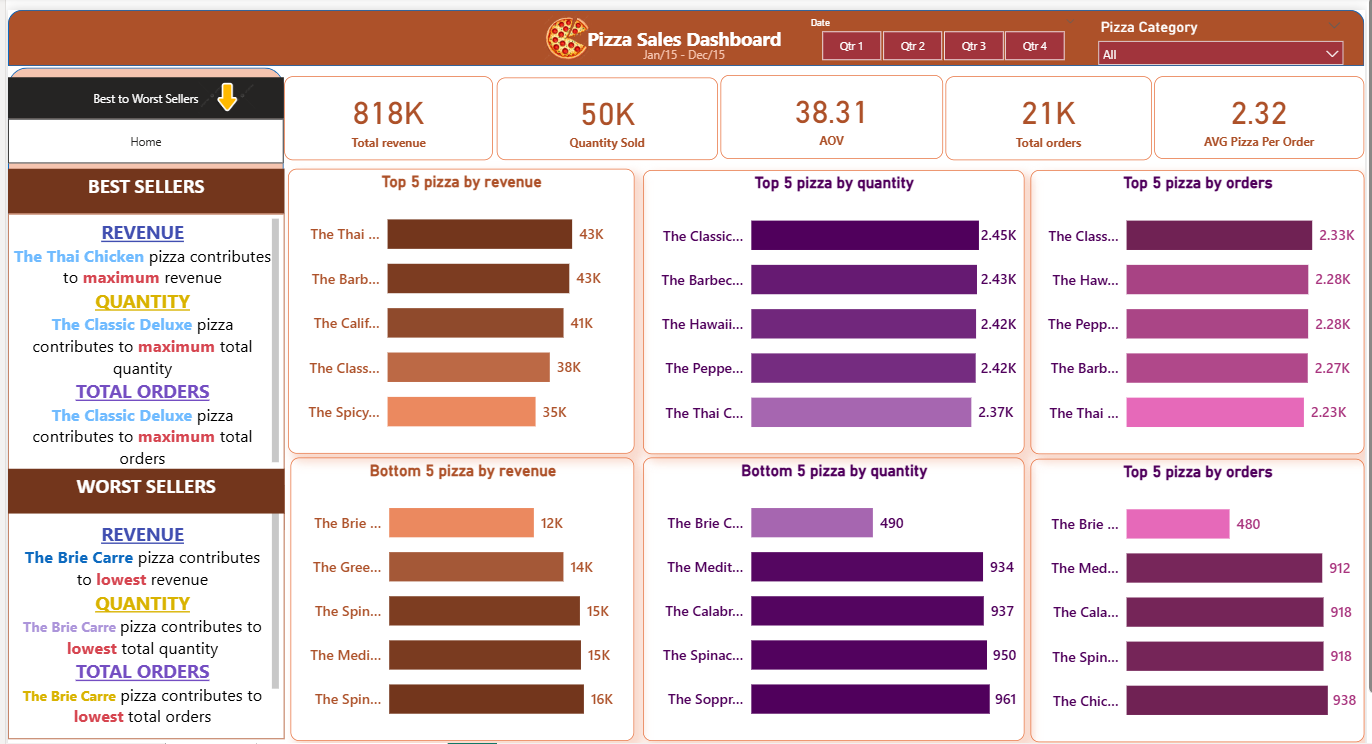

The dashboard page shown, as its layout file describes it:
{"tool":"powerbi","page":{"name":"Best to Worst Sellers","canvas":[1550,900],"ordinal":1},"visuals":[{"type":"card","fields":{"Values":["pizza_sales.Total revenue"]},"box":[315.7,75.7,238.6,95.7],"z":1000},{"type":"shape","box":[0,0,1550,64.3],"z":2000},{"type":"textbox","box":[654.8,12.3,237,39.7],"z":3000},{"type":"image","box":[605.5,0,67.1,65.8],"z":4000},{"type":"textbox","box":[700,37,145.2,27.4],"z":5000},{"type":"card","fields":{"Values":["pizza_sales.Quantity Sold"]},"box":[558.6,77.1,252.9,94.3],"z":6000},{"type":"card","fields":{"Values":["pizza_sales.AOV"]},"box":[814.3,74.3,254.3,95.7],"z":7000},{"type":"card","fields":{"Values":["pizza_sales.Total orders"]},"box":[1071.4,75.7,235.7,95.7],"z":8000},{"type":"card","fields":{"Values":["pizza_sales.AVG Pizza Per Order"]},"box":[1310,75.7,240,94.3],"z":10000},{"type":"shape","box":[0,65.8,315.1,734.2],"z":14000},{"type":"textbox","box":[0,181.4,315.7,51.4],"z":15000},{"type":"textbox","box":[0,232.9,315.7,310],"z":16000},{"type":"textbox","box":[0,542.9,315.7,51.4],"z":17000},{"type":"textbox","box":[0,542.9,315.7,290],"z":18000},{"type":"slicer","fields":{"Values":["pizza_sales.pizza_category"]},"box":[1235.7,4.3,300,58.6],"z":19000},{"type":"slicer","fields":{"Values":["pizza_sales.order_date.Variation.Date Hierarchy.Quarter"]},"box":[904.3,2.9,327.1,61.4],"z":20000},{"type":"barChart","title":"Top 5 pizza by revenue","fields":{"Category":["pizza_sales.pizza_name"],"Y":["Sum(pizza_sales.total_price)"]},"box":[320,181.4,395.7,325.7],"z":20001},{"type":"barChart","title":"Bottom 5 pizza by revenue","fields":{"Category":["pizza_sales.pizza_name"],"Y":["Sum(pizza_sales.total_price)"]},"box":[322.9,511.4,392.9,324],"z":20002},{"type":"barChart","title":"Top 5 pizza by quantity","fields":{"Category":["pizza_sales.pizza_name"],"Y":["Sum(pizza_sales.quantity)"]},"box":[725.7,182.9,435.7,325],"z":20003},{"type":"barChart","title":"Bottom 5 pizza by quantity","fields":{"Category":["pizza_sales.pizza_name"],"Y":["Sum(pizza_sales.quantity)"]},"box":[725.7,511.4,435.7,324],"z":20004},{"type":"barChart","title":"Top 5 pizza by orders","fields":{"Category":["pizza_sales.pizza_name"],"Y":["pizza_sales.Total orders"]},"box":[1168.6,182.9,381.4,325],"z":20005},{"type":"barChart","title":"Top 5 pizza by orders","fields":{"Category":["pizza_sales.pizza_name"],"Y":["pizza_sales.Total orders"]},"box":[1168.6,512.9,381.4,324],"z":20006},{"type":"textbox","box":[0,524.3,315.7,51.4],"z":20007},{"type":"pageNavigator","box":[0,77.1,315.7,47.1],"z":20008},{"type":"pageNavigator","box":[0,124.3,315.7,51.4],"z":20009},{"type":"image","box":[211.4,74.3,78.6,50],"z":20010}]}

Visuals, with their boxes on the page's 1550x900 design canvas (x1, y1, x2, y2). These are canvas units, not pixel positions in the 1372x744 screenshot, which may show the page scaled, cropped or inside an application window:
card - pizza_sales.Total revenue: BBox(316, 76, 554, 171)
shape: BBox(0, 0, 1550, 64)
textbox: BBox(655, 12, 892, 52)
image: BBox(606, 0, 673, 66)
textbox: BBox(700, 37, 845, 64)
card - pizza_sales.Quantity Sold: BBox(559, 77, 812, 171)
card - pizza_sales.AOV: BBox(814, 74, 1069, 170)
card - pizza_sales.Total orders: BBox(1071, 76, 1307, 171)
card - pizza_sales.AVG Pizza Per Order: BBox(1310, 76, 1550, 170)
shape: BBox(0, 66, 315, 800)
textbox: BBox(0, 181, 316, 233)
textbox: BBox(0, 233, 316, 543)
textbox: BBox(0, 543, 316, 594)
textbox: BBox(0, 543, 316, 833)
slicer - pizza_sales.pizza_category: BBox(1236, 4, 1536, 63)
slicer - pizza_sales.order_date.Variation.Date Hierarchy.Quarter: BBox(904, 3, 1231, 64)
"Top 5 pizza by revenue" barChart: BBox(320, 181, 716, 507)
"Bottom 5 pizza by revenue" barChart: BBox(323, 511, 716, 835)
"Top 5 pizza by quantity" barChart: BBox(726, 183, 1161, 508)
"Bottom 5 pizza by quantity" barChart: BBox(726, 511, 1161, 835)
"Top 5 pizza by orders" barChart: BBox(1169, 183, 1550, 508)
"Top 5 pizza by orders" barChart: BBox(1169, 513, 1550, 837)
textbox: BBox(0, 524, 316, 576)
pageNavigator: BBox(0, 77, 316, 124)
pageNavigator: BBox(0, 124, 316, 176)
image: BBox(211, 74, 290, 124)
